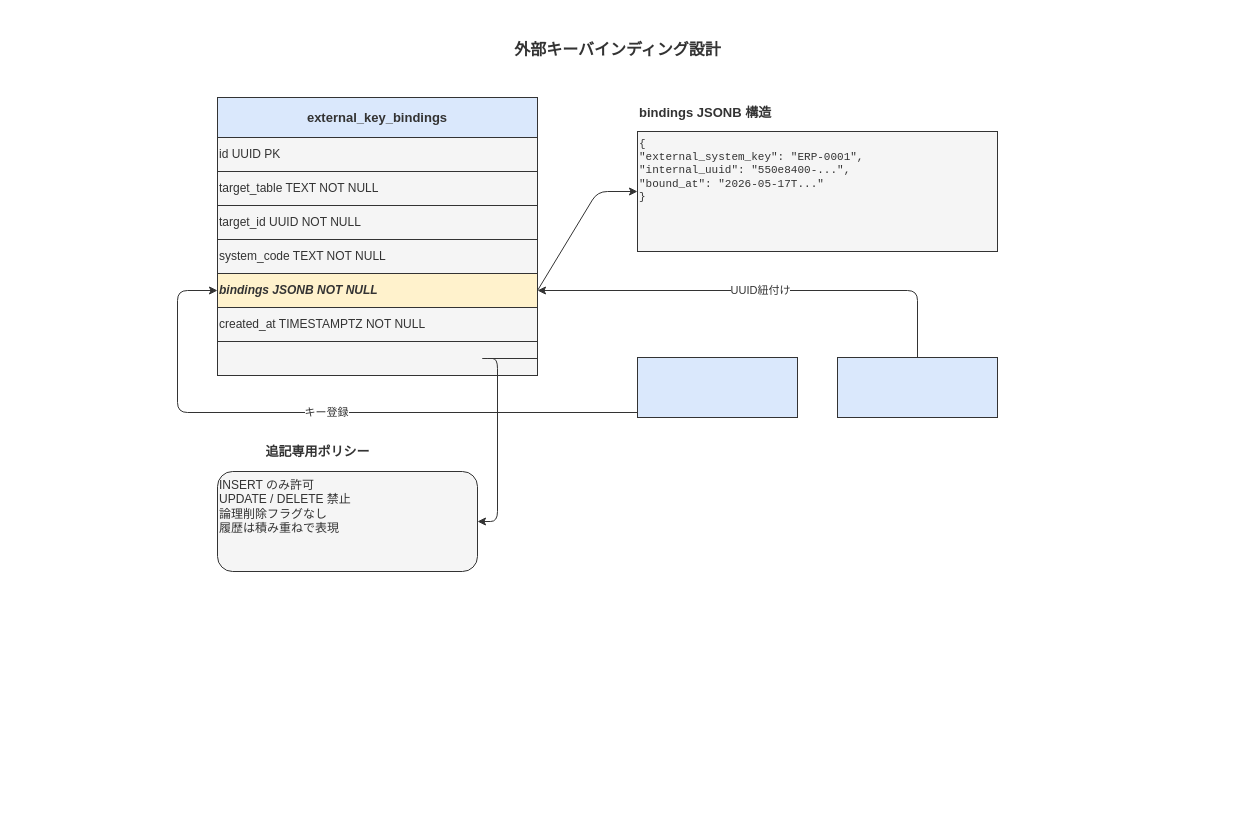
The diagram is 1234 pixels wide and 834 high, and some of its shapes have lost their labels. The shapes that lost their labels are listed below. From the top down, each one's centre as x and y in pixels, then its label:
At (x=377, y=358): "NOTE: 追記専用（UPDATE/DELETE 禁止）".
At (x=717, y=387): "外部システム （ERPなど）".
At (x=917, y=387): "内部エンティティ （UUID）".
